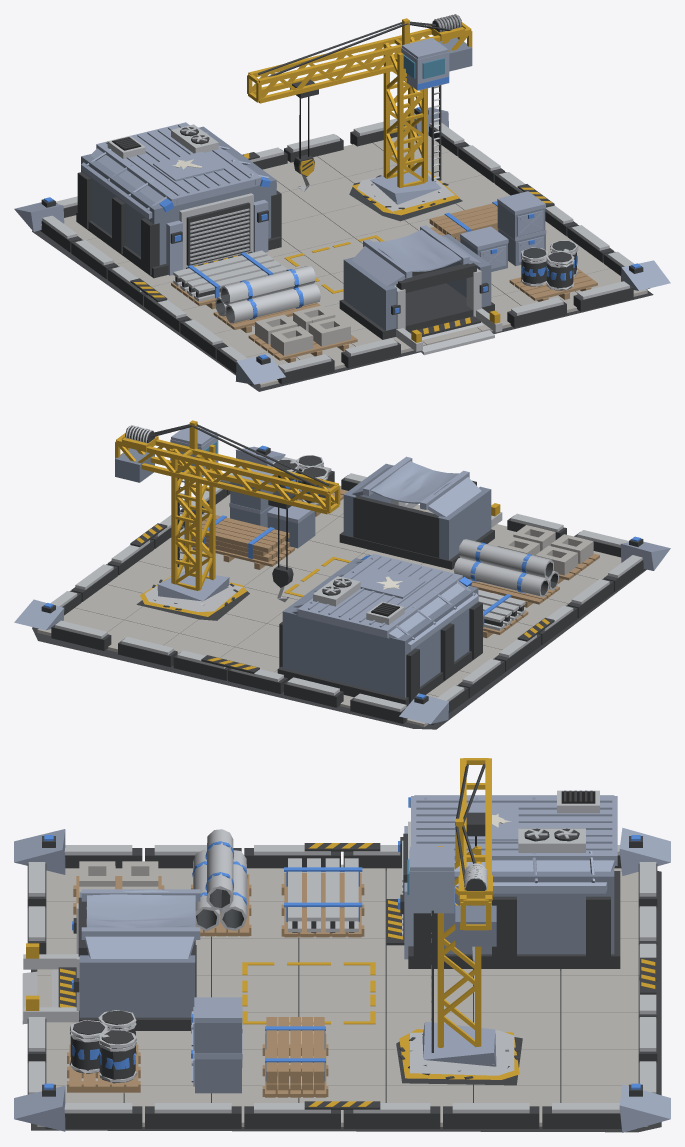
3 views of the same model, one above another, from view 1: azimuth 30°, elevation 25°; view 2: azimuth 150°, elevation 25°; view 3: azimuth 270°, elevation 25° (orthographic). The views are drawn at different scales.
Parts seen in each view (by area): view 1: Base, Crane; view 2: Base, Crane; view 3: Base, Crane.
Boxes of the visible parts, x1,y1,x2,y2 form: Base: (14, 36, 670, 391); Crane: (247, 14, 472, 192); Base: (14, 444, 670, 729); Crane: (115, 420, 340, 602); Base: (14, 790, 670, 1132); Crane: (407, 758, 496, 962).
Bounding box in the file's own units: 15.27 × 6.44 × 15.2.
